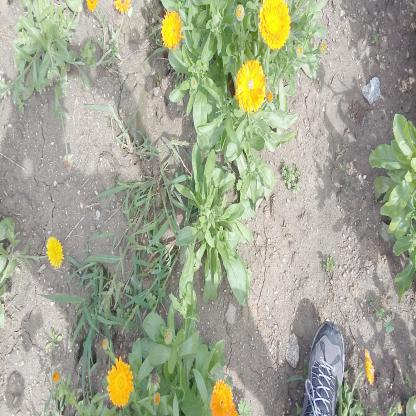marigold: (235, 59, 266, 112), (258, 2, 291, 51), (105, 355, 134, 406), (159, 9, 184, 50), (210, 378, 234, 416), (46, 234, 64, 270), (362, 346, 376, 388)
